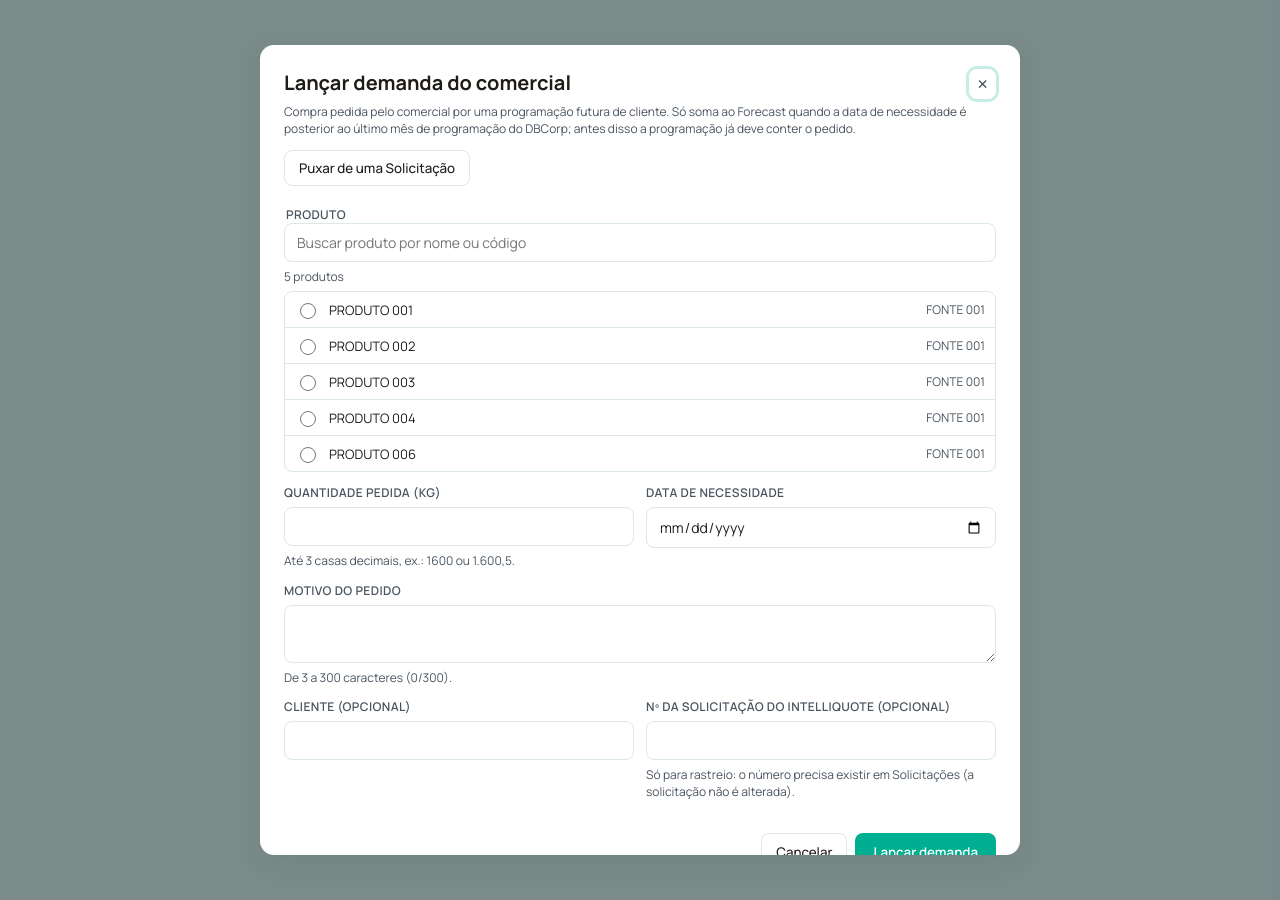
Test: ForecastPuxarSolicitacao - painel › C13: abrir leva o foco ao titulo; Esc fecha so o painel, devolve o foco ao botao e nao fecha o modal
The image size is (1280, 900).
Expected: the text "5 produtos" is shown, 284,268 -> 344,285
Click the button "Puxar de uma Solicitação" at (377, 168), box 284,150 -> 470,186
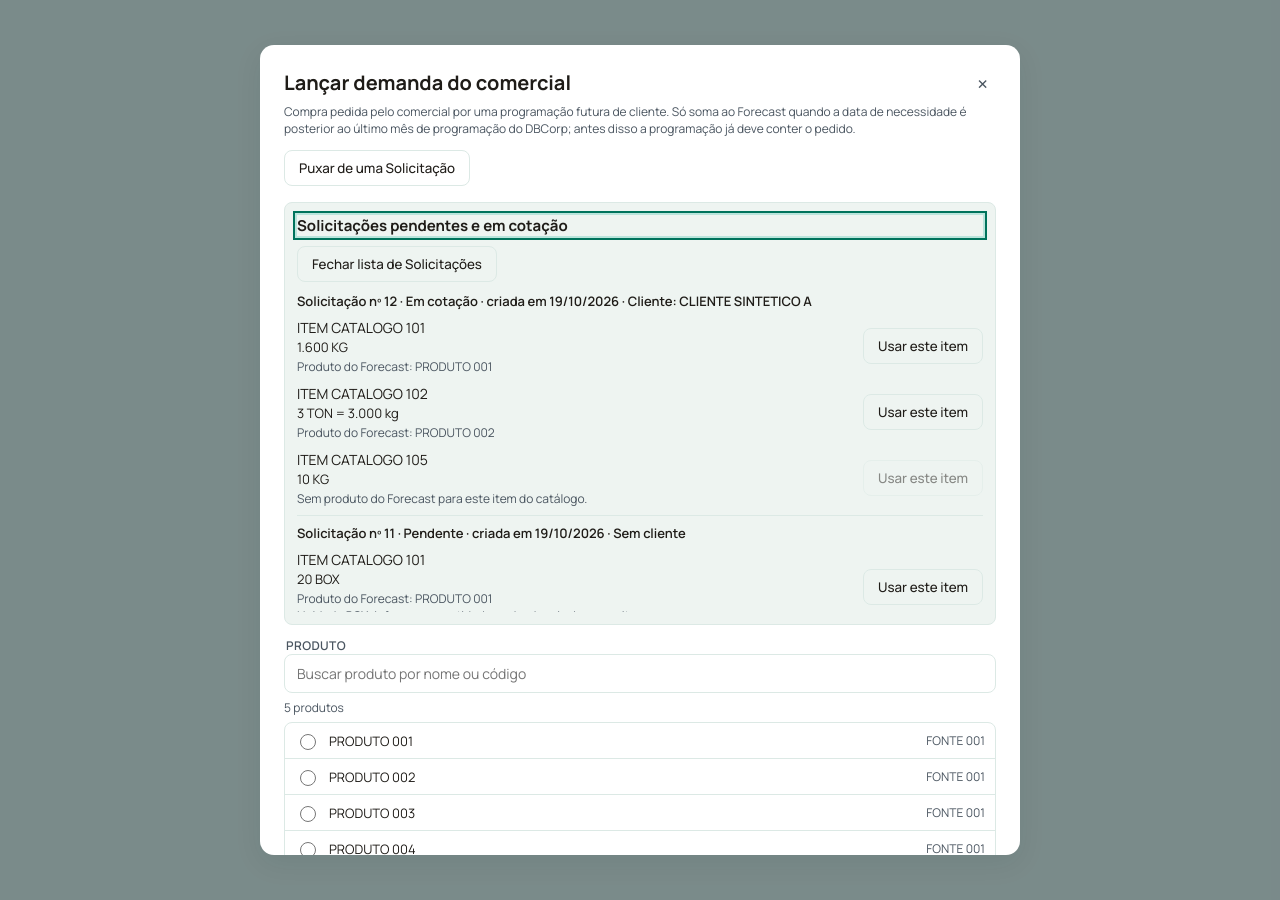
Press Escape in the heading "Solicitações pendentes e em cotação", box 297,215 -> 983,236
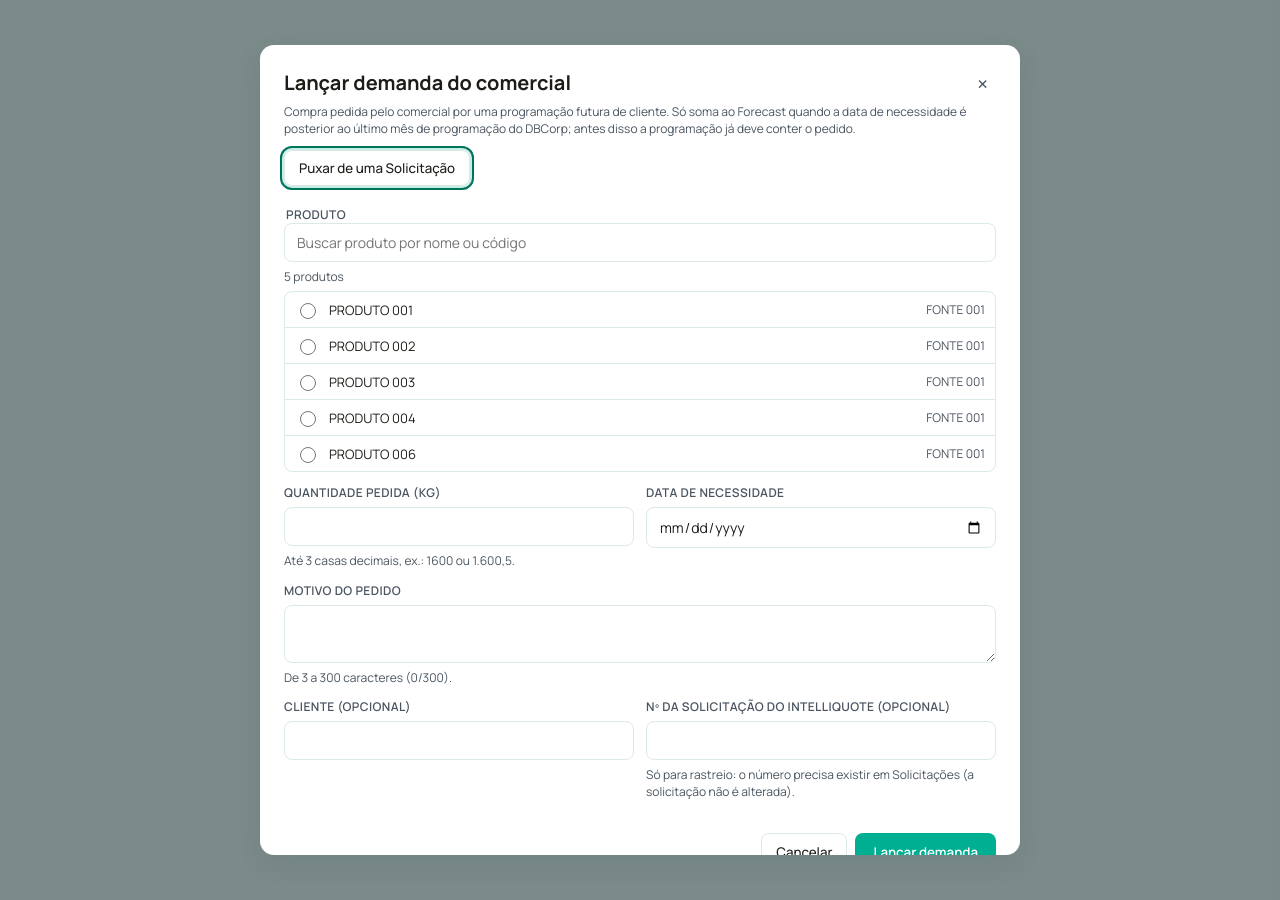
Expected: the heading "Solicitações pendentes e em cotação" is gone
